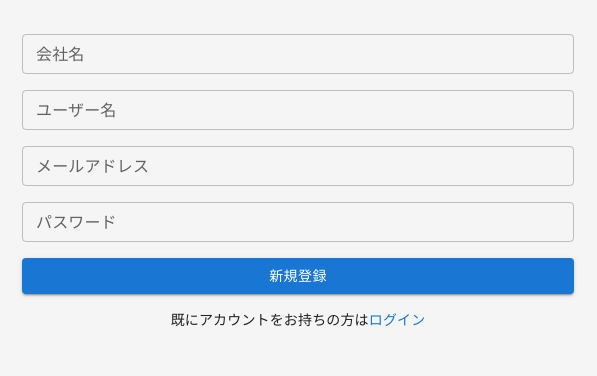
it: SignupPage › AUTH-FE-027: 429 RATE_LIMIT_EXCEEDED エラー時にレート制限メッセージが表示される
In the field labelled "会社名": [298, 54] box [22,34,574,74], type "Test Corp"
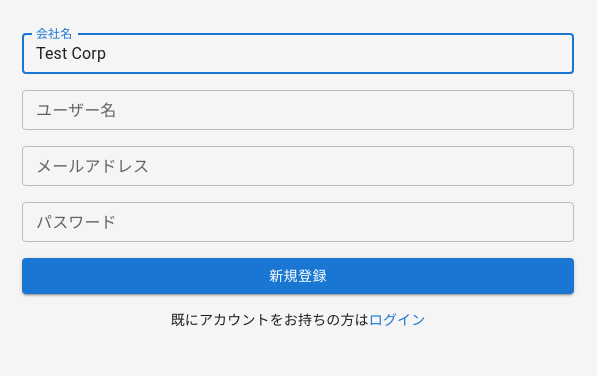
In the field labelled "ユーザー名": [298, 110] box [22,90,574,130], type "Test User"
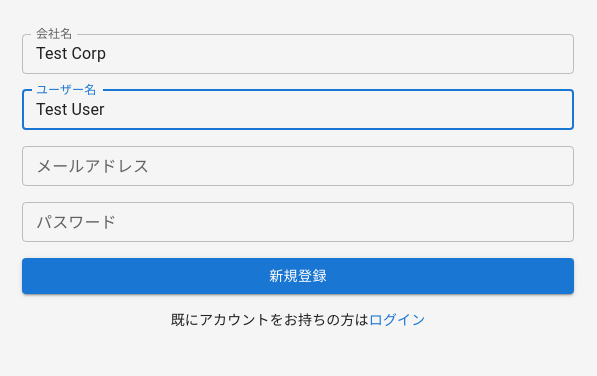
In the field labelled "メールアドレス": [298, 166] box [22,146,574,186], type "new@example.com"
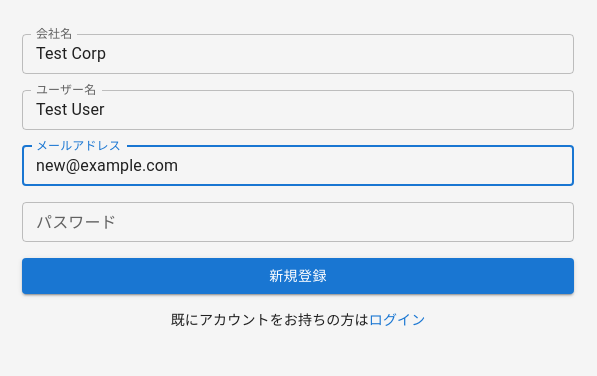
In the password field labelled "パスワード": [298, 222] box [22,202,574,242], type "TestPass1!"
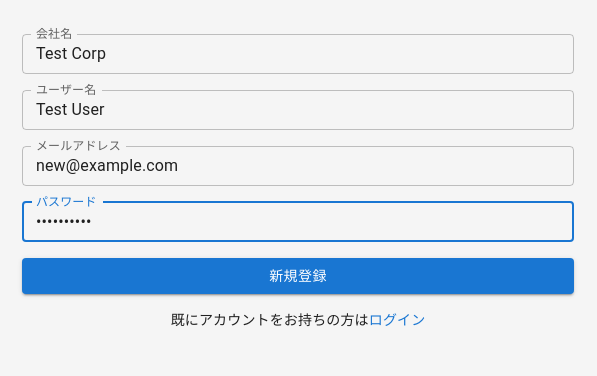
Click the button "新規登録": [298, 276] box [22,258,574,294]
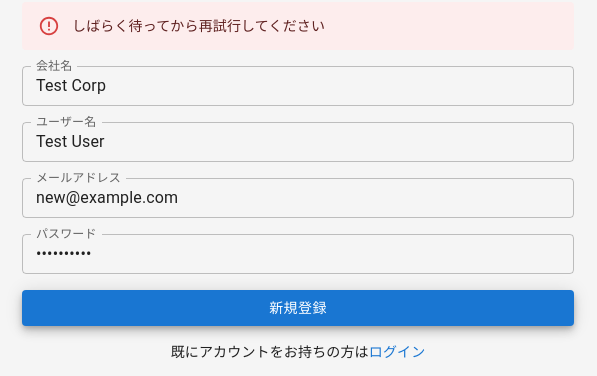
expect the text "しばらく待ってから再試行してください" is shown: met, box [72,18,325,34]
